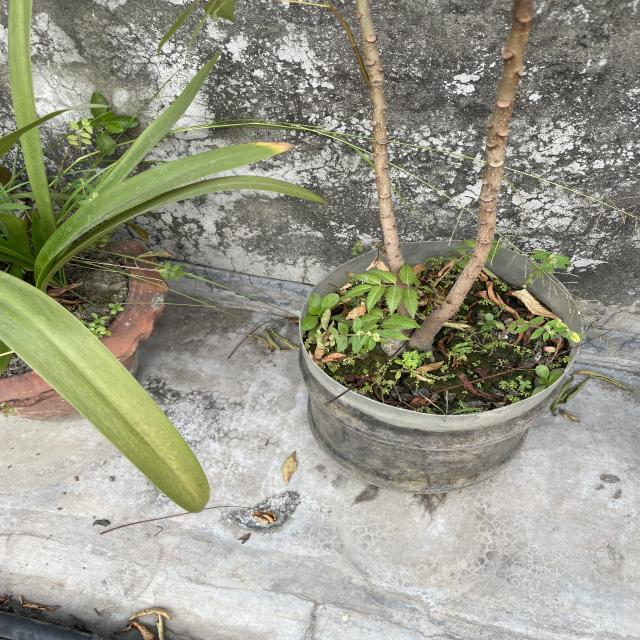Breeding Place: (296, 241, 572, 494), (0, 212, 168, 420)
